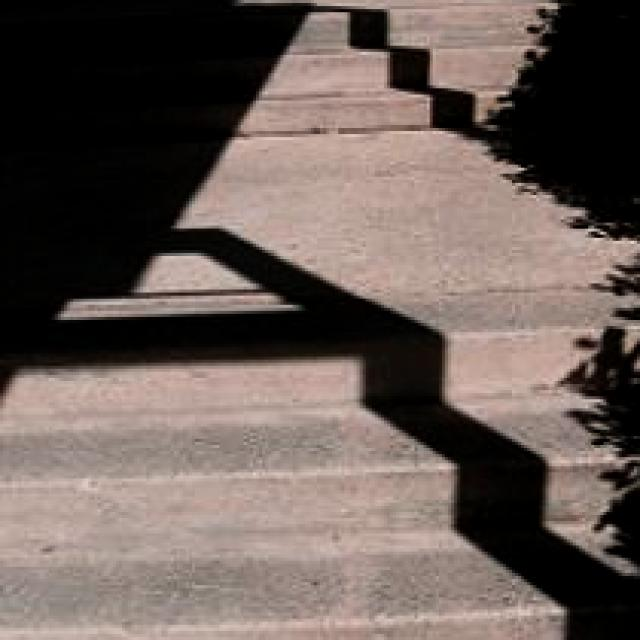upstair: (53, 309, 598, 629)
